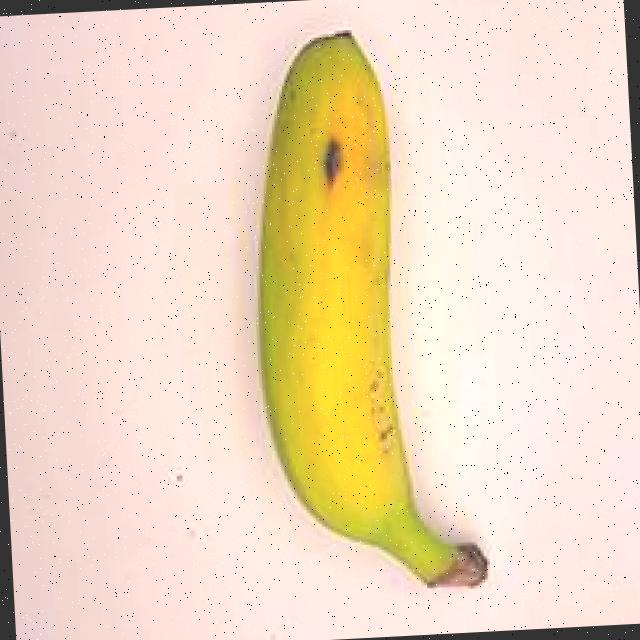Unripe: (168, 4, 538, 624)
